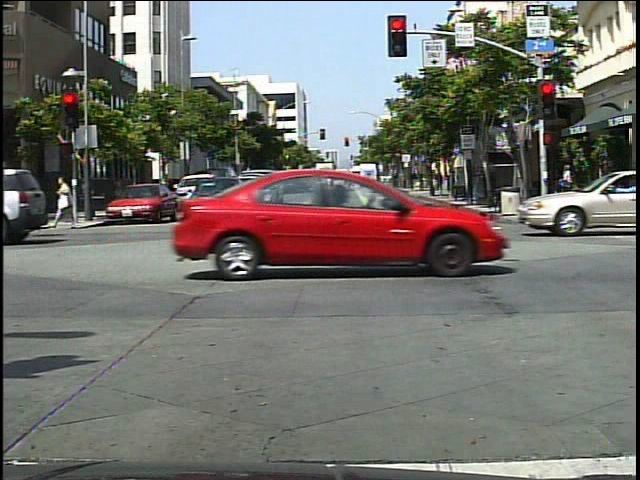person: (52, 171, 83, 235), (556, 162, 579, 192)
